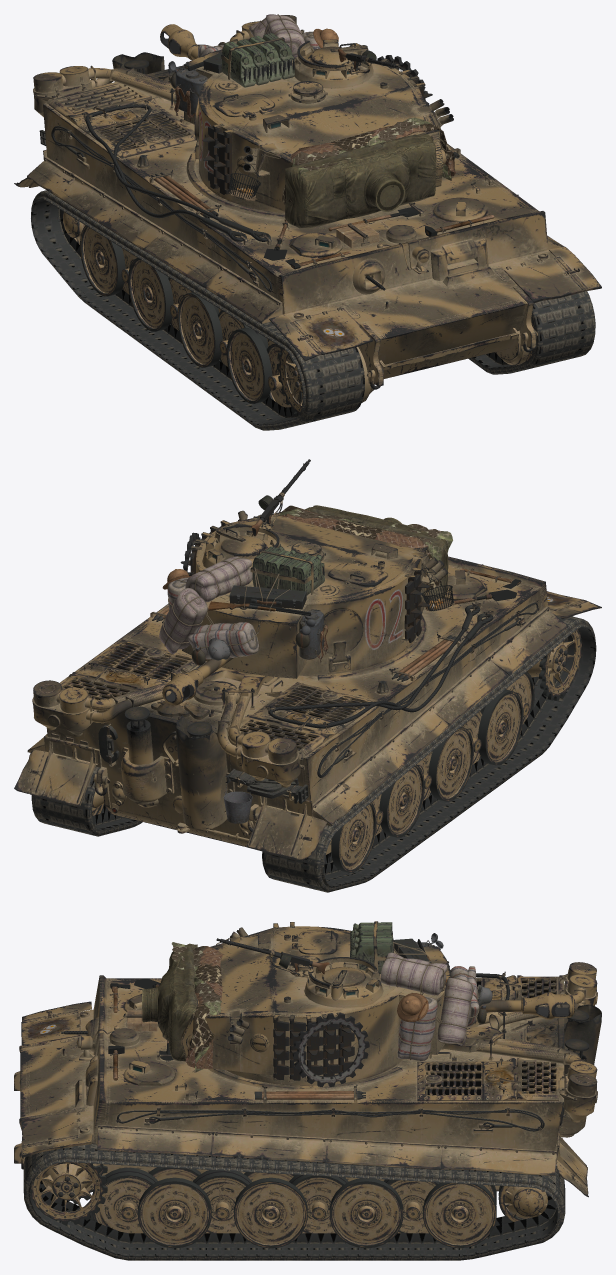
Rendered from Tiger I_Skin.fbx.
3 views of the same model, one above another, from view 1: azimuth 30°, elevation 25°; view 2: azimuth 150°, elevation 25°; view 3: azimuth 270°, elevation 25° (orthographic). The views are drawn at different scales.
Parts seen in each view (by area): view 1: german\G04_PzVI_Tiger_I\_skins\G04_PzVI_Tiger_I_E_3DSt\norma (×10); view 2: german\G04_PzVI_Tiger_I\_skins\G04_PzVI_Tiger_I_E_3DSt\norma (×10); view 3: german\G04_PzVI_Tiger_I\_skins\G04_PzVI_Tiger_I_E_3DSt\norma (×9).
Boxes of the visible parts, box(x1,y1,x2,y2) form: german\G04_PzVI_Tiger_I\_skins\G04_PzVI_Tiger_I_E_3DSt\norma (×10): box(14, 14, 601, 430); german\G04_PzVI_Tiger_I\_skins\G04_PzVI_Tiger_I_E_3DSt\norma (×10): box(14, 459, 601, 892); german\G04_PzVI_Tiger_I\_skins\G04_PzVI_Tiger_I_E_3DSt\norma (×9): box(14, 921, 601, 1260).
Size of the model in its own units: 3.71 by 3.3 by 6.37.
7 materials, 7 textured.
